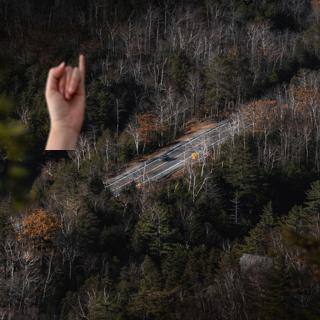Fine: (37, 40, 92, 150)
